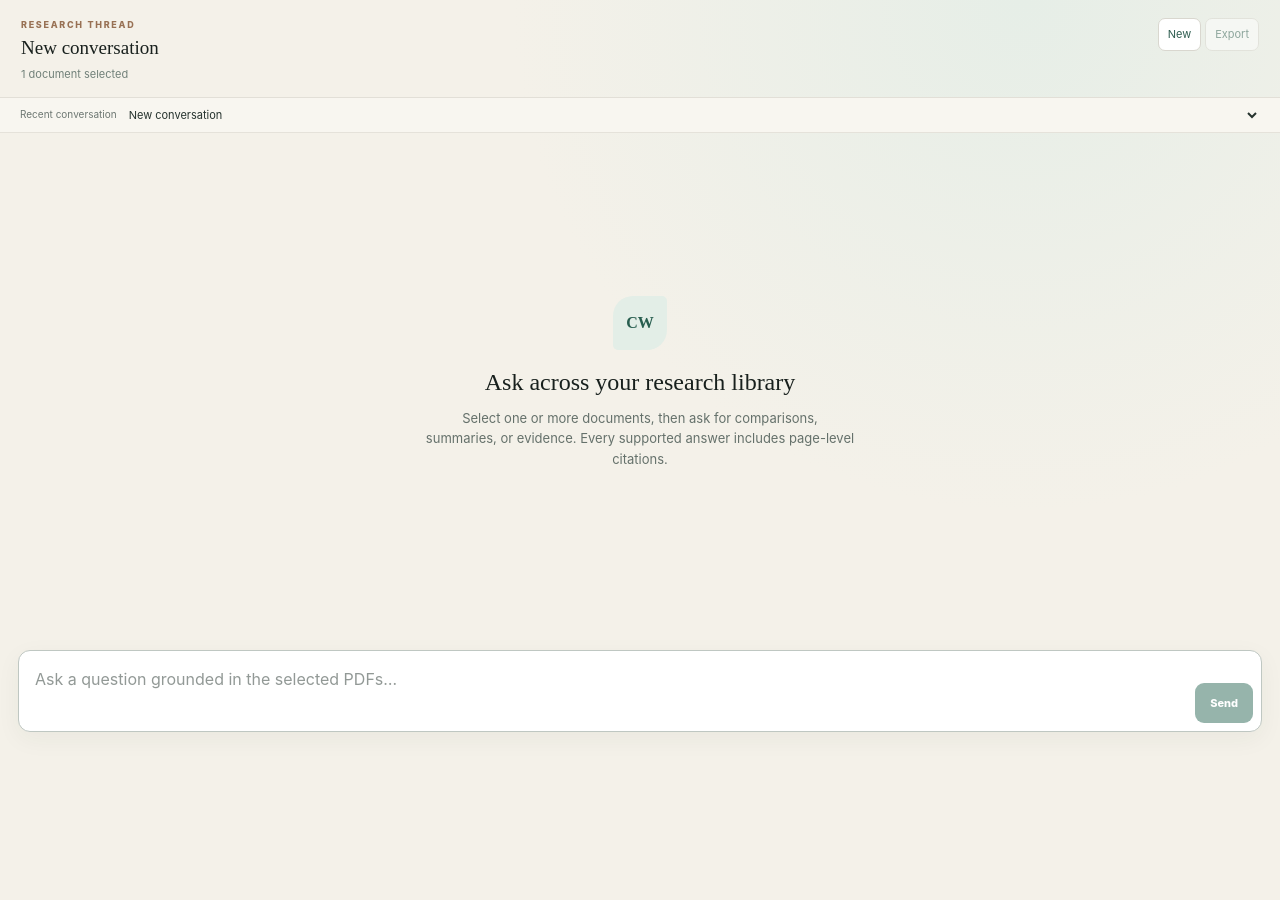
Test: chat panel › loads a selected recent session
Select "Prior work" in the dropdown at (692, 114), box [125,106,1260,122]
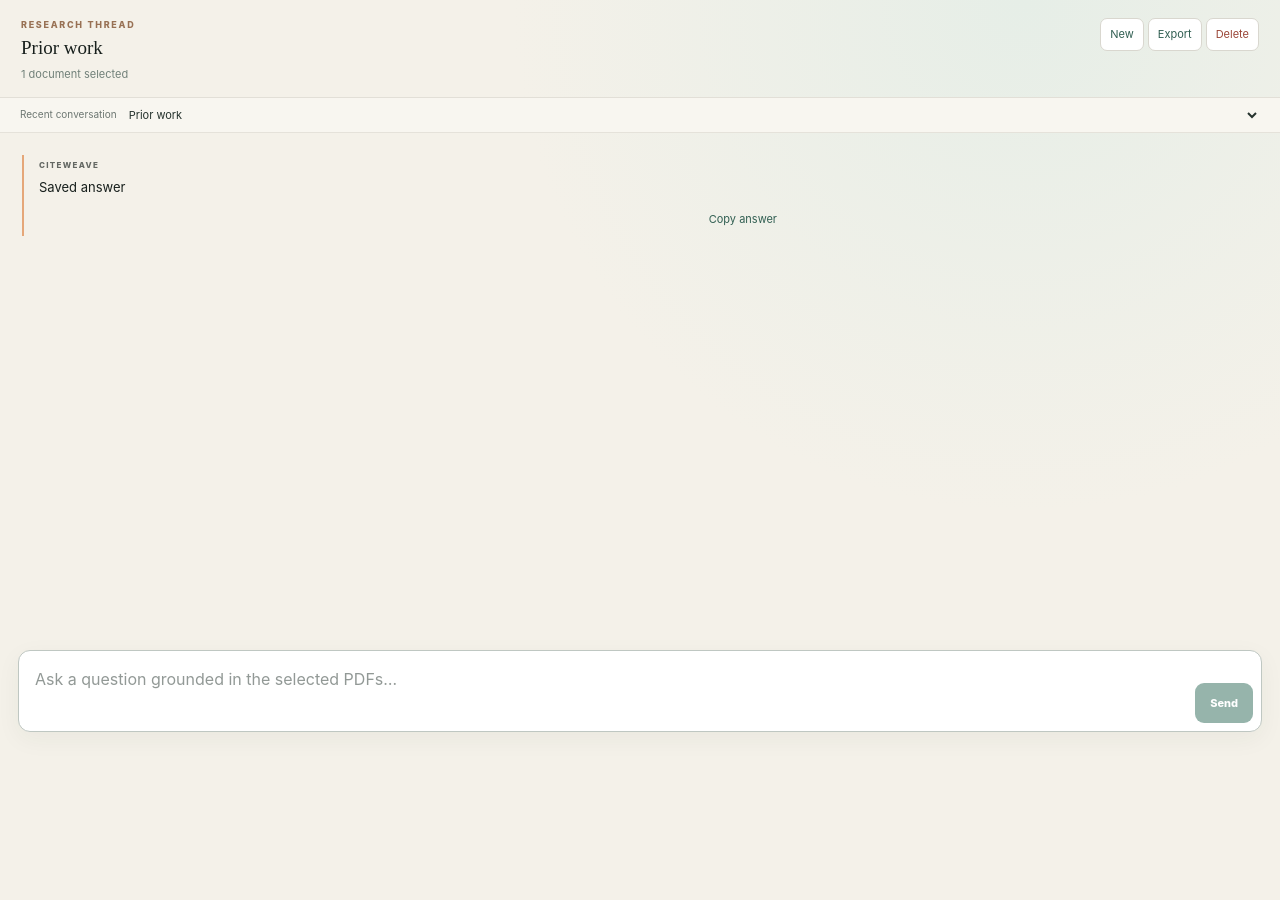
Result: the text "Saved answer" is shown at [39,178,125,194]
